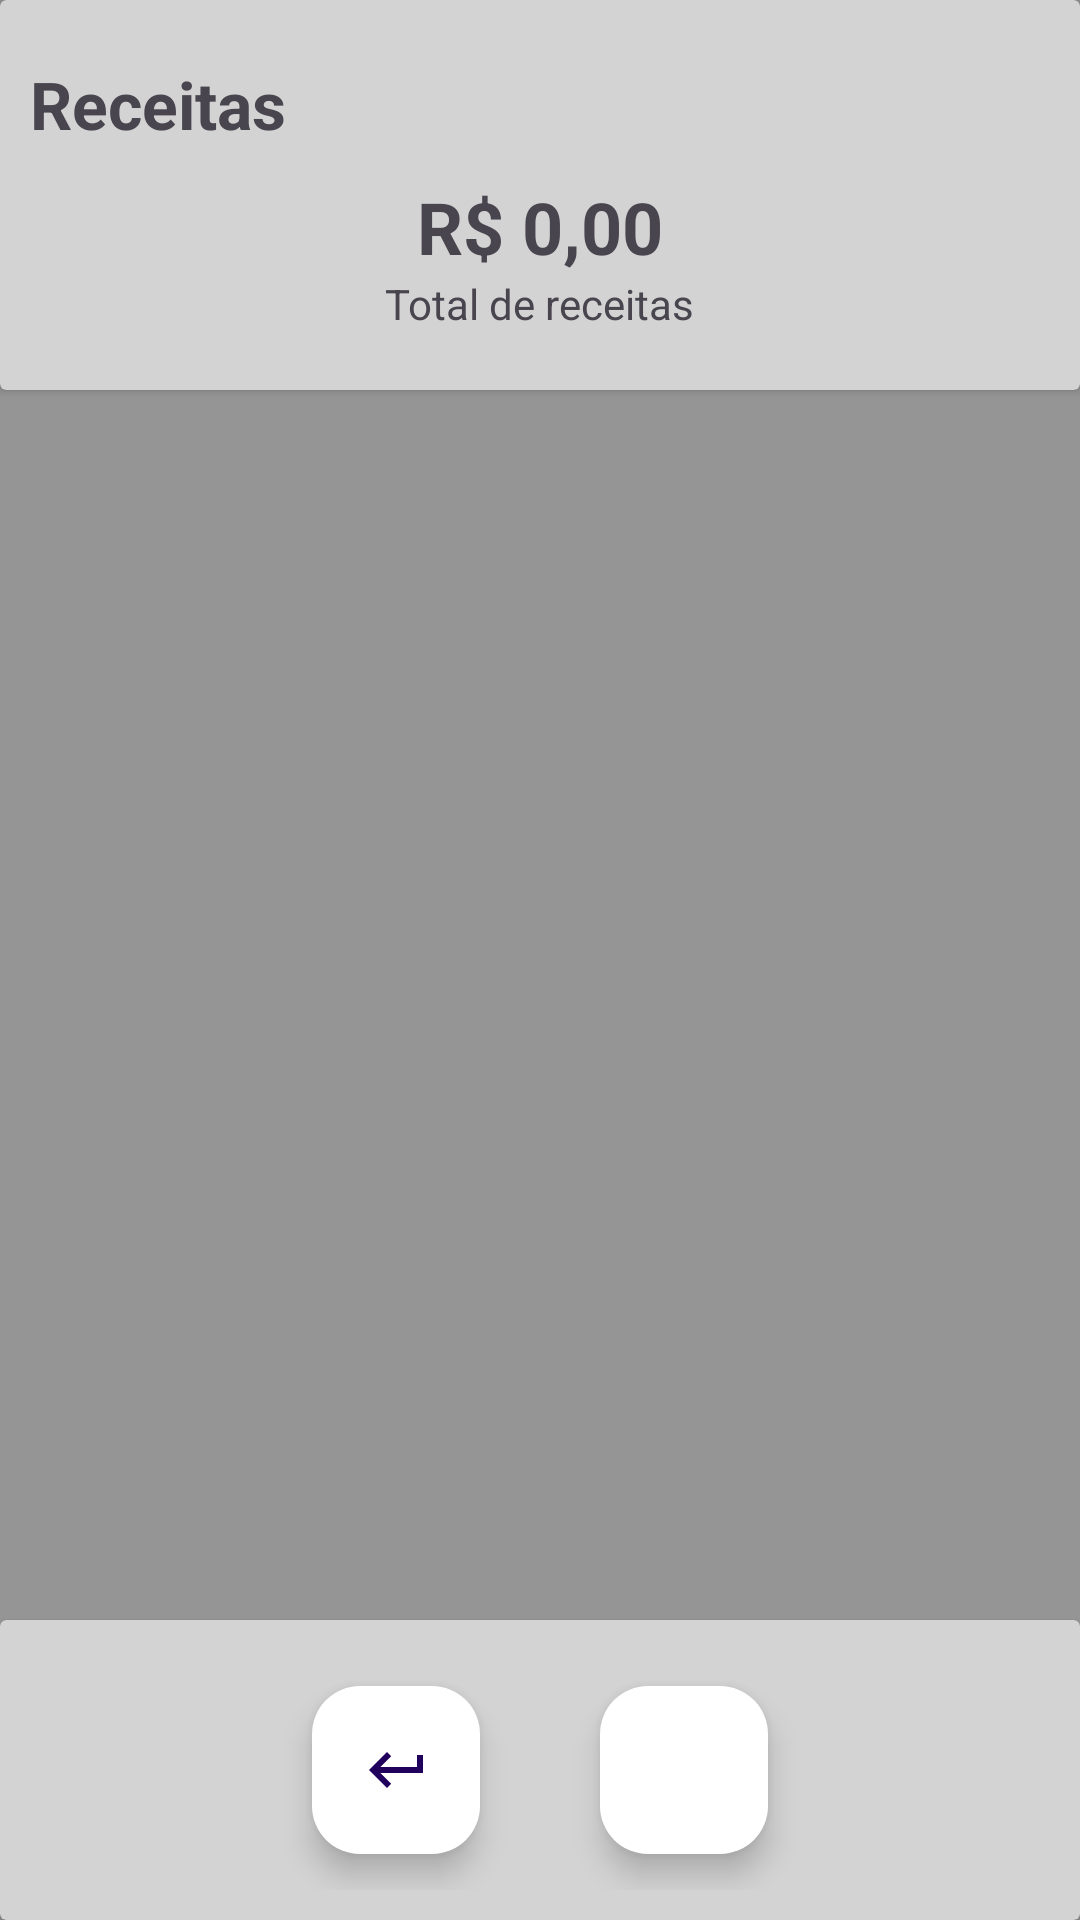

Point at icon controls on the screen. Image size 1080 x 1920, points as (x=x, y=y).
return: (x=396, y=1770)
